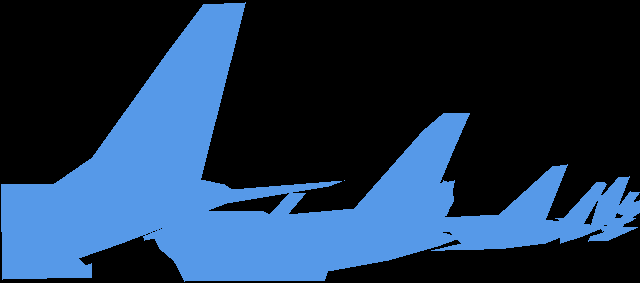Airplane: (1, 2, 344, 280), (143, 113, 469, 282), (429, 164, 567, 250), (555, 182, 608, 244), (588, 191, 639, 242), (591, 176, 635, 231)
